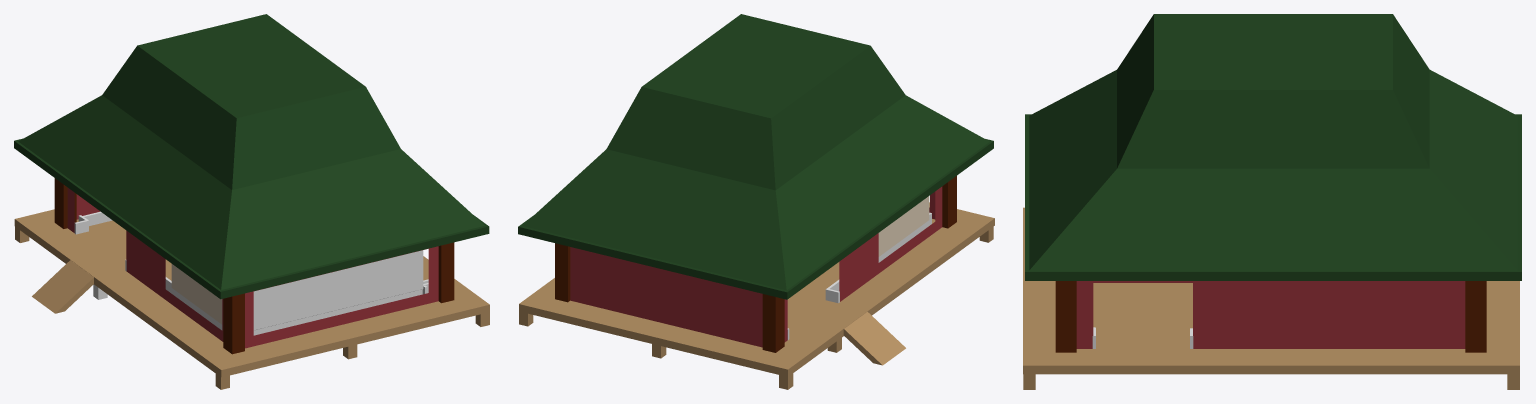
Rendered from tea-house.glb.
The picture shows the model from 3 angles, left to right: view 1: azimuth 30°, elevation 25°; view 2: azimuth 150°, elevation 25°; view 3: azimuth 270°, elevation 25°; orthographic projection. The views are drawn at different scales.
Visible parts, largest first — view 1: Cube.001, Cube, Plane.003, Plane.002, Plane, Plane.004, Cube.023, Cube.006, Cube.022, Cube.020, Cube.013; view 2: Cube.001, Cube, Plane.002, Plane, Plane.004, Cube.020, Cube.021, Cube.023, Cube.013; view 3: Cube.001, Cube, Plane.002, Cube.021, Cube.022.
Part boxes in pixels (left/top/right/bottom): Cube.001: left=14, top=14, right=489, bottom=299; Cube: left=14, top=209, right=489, bottom=377; Plane.003: left=253, top=250, right=423, bottom=330; Plane.002: left=67, top=188, right=438, bottom=348; Plane: left=32, top=260, right=93, bottom=313; Plane.004: left=171, top=264, right=222, bottom=324; Cube.023: left=223, top=293, right=244, bottom=354; Cube.006: left=253, top=283, right=428, bottom=335; Cube.022: left=438, top=242, right=454, bottom=303; Cube.020: left=54, top=178, right=76, bottom=228; Cube.013: left=165, top=277, right=222, bottom=330; Cube.001: left=518, top=14, right=993, bottom=299; Cube: left=519, top=202, right=994, bottom=376; Plane.002: left=570, top=186, right=942, bottom=347; Plane: left=843, top=312, right=905, bottom=365; Plane.004: left=878, top=196, right=929, bottom=256; Cube.020: left=762, top=294, right=784, bottom=352; Cube.021: left=555, top=243, right=570, bottom=302; Cube.023: left=942, top=176, right=956, bottom=228; Cube.013: left=827, top=212, right=931, bottom=291; Cube.001: left=1025, top=14, right=1521, bottom=280; Cube: left=1023, top=207, right=1519, bottom=374; Plane.002: left=1076, top=281, right=1465, bottom=348; Cube.021: left=1465, top=281, right=1486, bottom=352; Cube.022: left=1055, top=281, right=1076, bottom=352.
Size of the model in its own units: 16.99 by 11.74 by 19.84.
